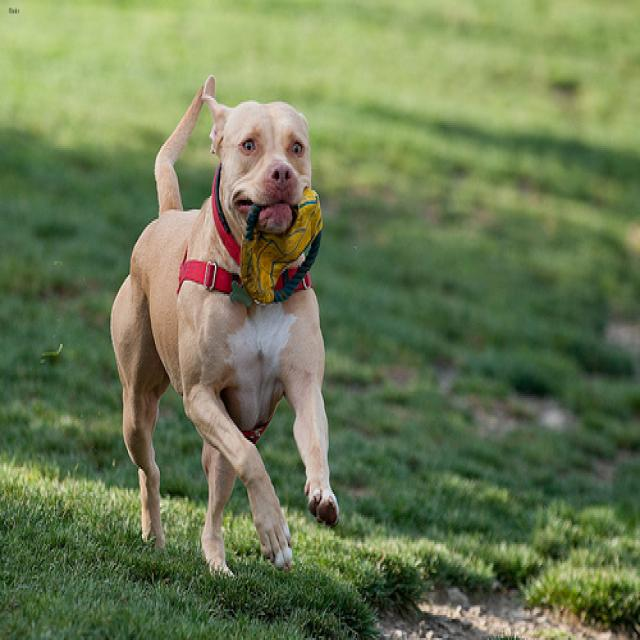dog-staffordshire_bull_terrier: (108, 65, 346, 582)
